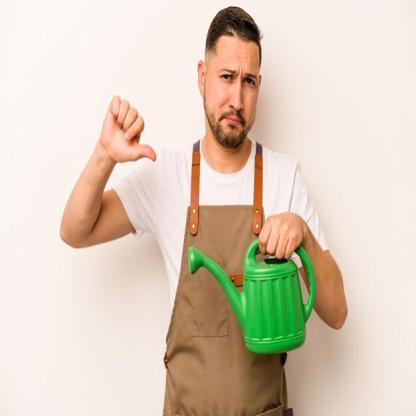thumb_down: (99, 86, 159, 167)
